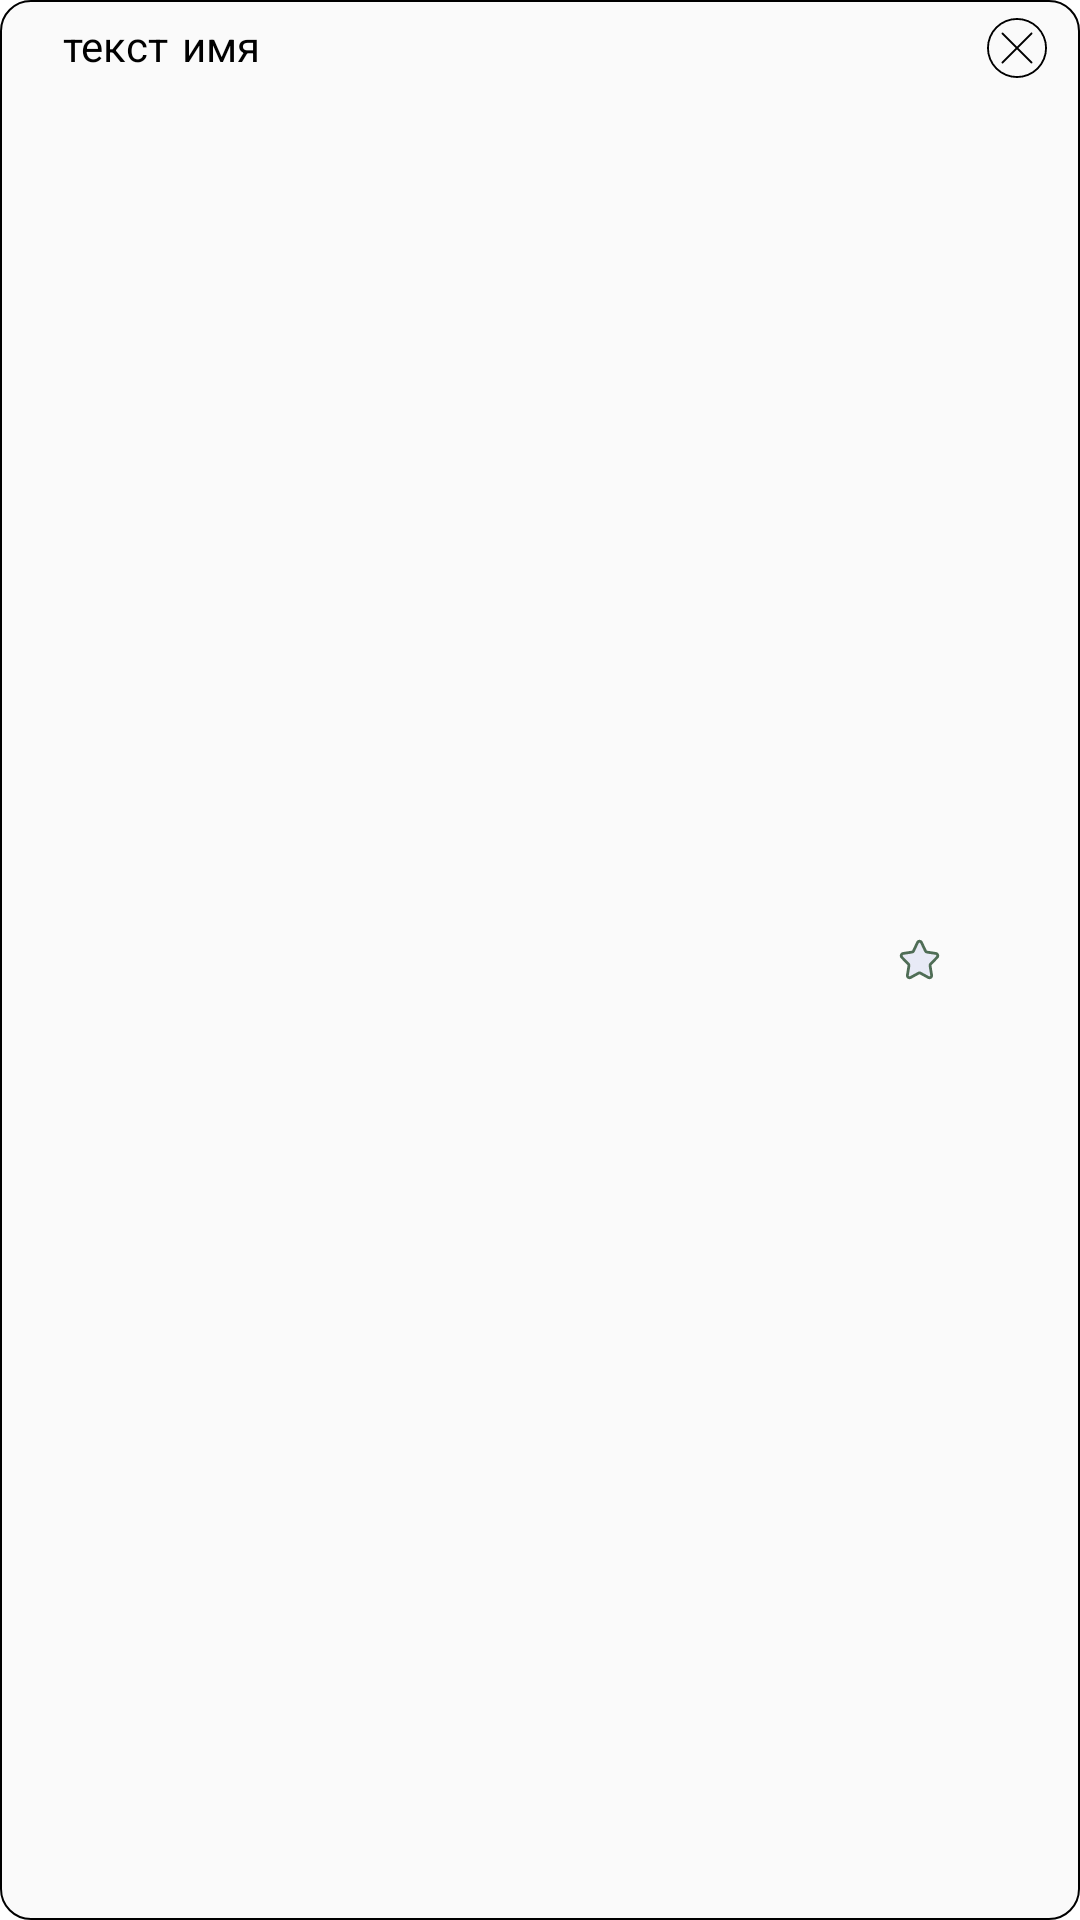

Locate icon controls on the screen. Image size 1080x1920, boxes as bbox(x1, y1, x2, y2).
star: bbox(899, 939, 940, 980)
